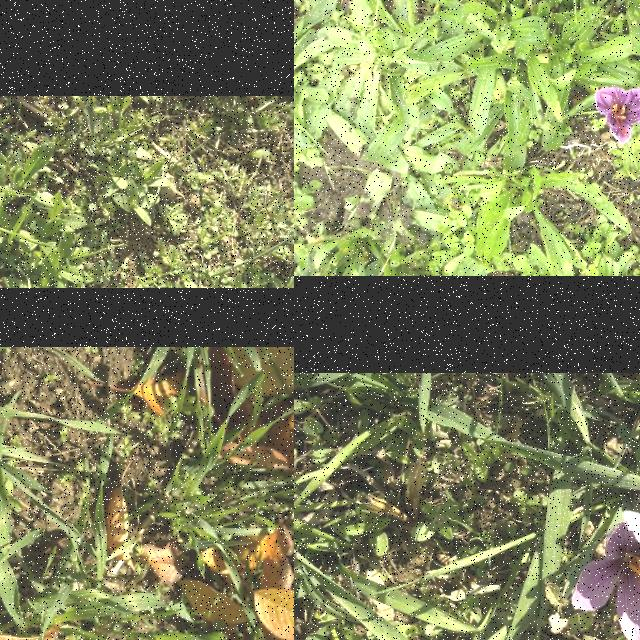flower: (572, 521, 640, 640), (595, 86, 640, 144)
